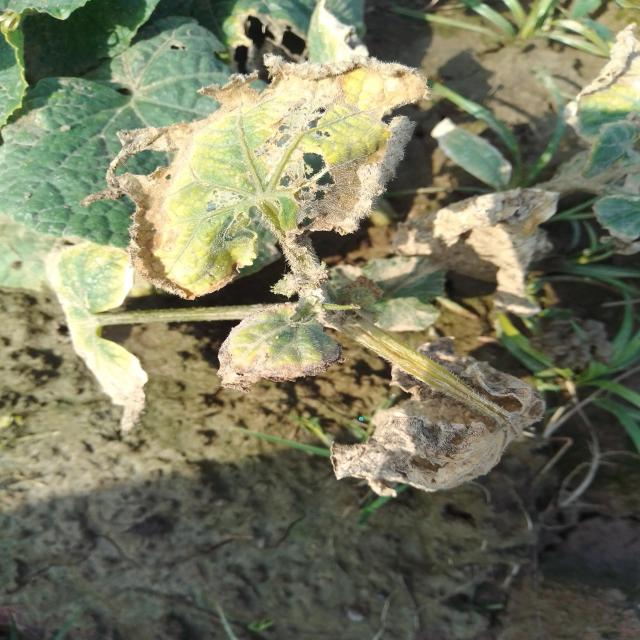cucumber_bacterial: (145, 46, 426, 298), (0, 15, 244, 302), (438, 21, 640, 320), (177, 236, 400, 454), (324, 369, 534, 492), (44, 206, 150, 438)
